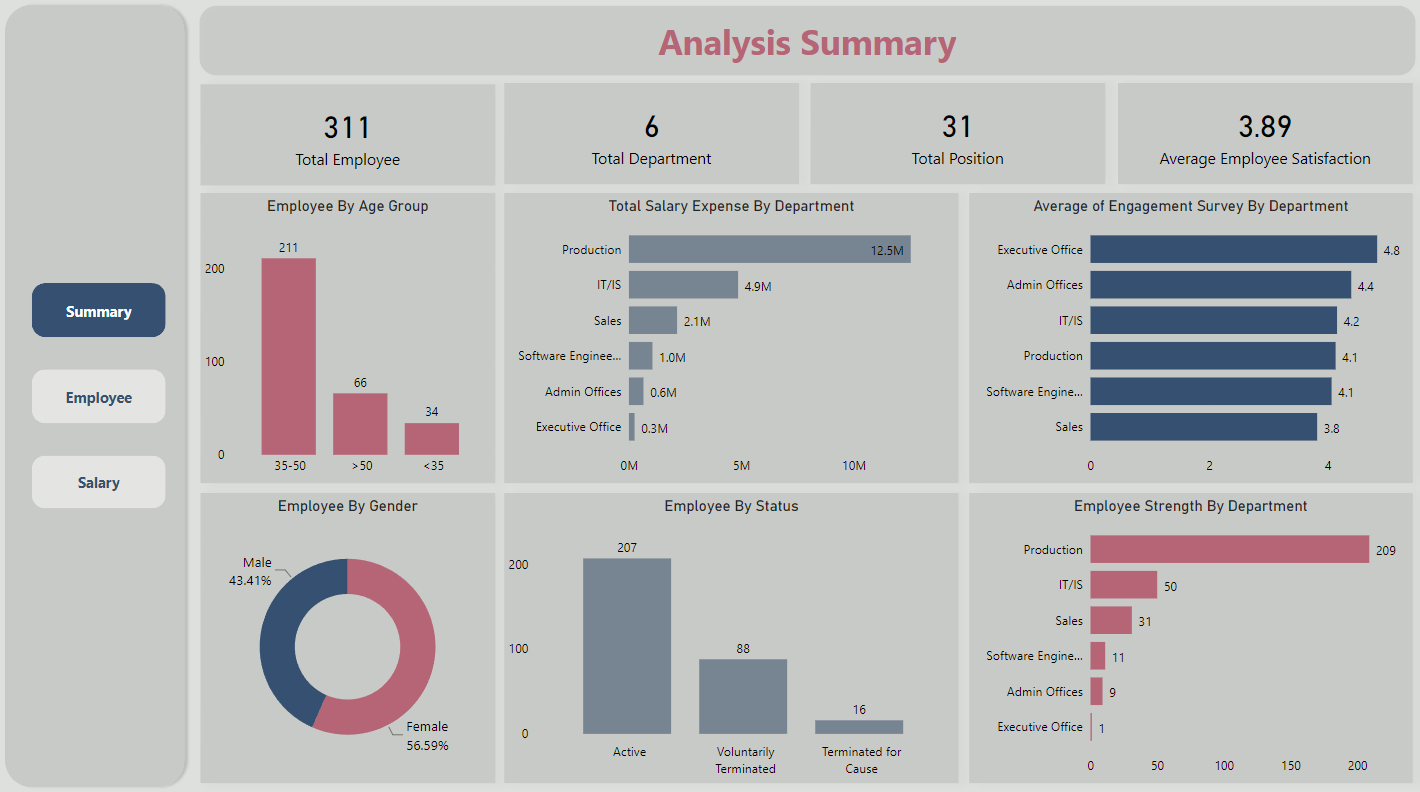

What the dashboard file says about the page in this screenshot:
{"tool":"powerbi","page":{"name":"Summary","canvas":[1700,950],"ordinal":0},"visuals":[{"type":"shape","box":[0,0,230.6,950.7],"z":0},{"type":"clusteredBarChart","title":"Average of Engagement Survey By Department","fields":{"Category":["HRDataset.Department"],"Y":["Avg(HRDataset.EngagementSurvey)"]},"box":[1159.8,232.3,529.3,346.8],"z":2000},{"type":"actionButton","box":[40,546.7,160,63.3],"z":3000},{"type":"actionButton","box":[40,443.3,160,65],"z":4000},{"type":"actionButton","box":[40,340,160,65],"z":5000},{"type":"clusteredBarChart","title":"Total Salary Expense By Department","fields":{"Category":["HRDataset.Department"],"Y":["Sum(HRDataset.Salary)"]},"box":[603.9,232.3,542.6,346.8],"z":6000},{"type":"shape","box":[230.6,0,1470,101.2],"z":7000},{"type":"clusteredBarChart","title":"Employee Strength By Department","fields":{"Y":["CountNonNull(HRDataset.EmpID)"],"Category":["HRDataset.Department"]},"box":[1159.8,590.7,529.3,346.8],"z":8000},{"type":"columnChart","title":"Employee By Status","fields":{"Category":["HRDataset.EmploymentStatus"],"Y":["CountNonNull(HRDataset.EmpID)"]},"box":[603.9,590.7,542.6,346.8],"z":9000},{"type":"donutChart","title":"Employee By Gender","fields":{"Y":["CountNonNull(HRDataset.EmpID)"],"Category":["HRDataset.Sex"]},"box":[242.2,590.7,351.7,346.8],"z":10000},{"type":"columnChart","title":"Employee By Age Group","fields":{"Y":["CountNonNull(HRDataset.EmpID)"],"Category":["HRDataset.Age Group"]},"box":[242.2,232.3,351.7,346.8],"z":11000},{"type":"card","title":"Employee By Age Group","fields":{"Values":["CountNonNull(HRDataset.EmpID)"]},"box":[242.2,102.9,351.7,121.1],"z":12000},{"type":"card","title":"Employee By Age Group","fields":{"Values":["Count(HRDataset.Department)"]},"box":[603.9,101.2,351.7,121.1],"z":14000},{"type":"card","title":"Employee By Age Group","fields":{"Values":["Count(HRDataset.Position)"]},"box":[970.6,101.2,351.7,121.1],"z":15000},{"type":"card","title":"Employee By Age Group","fields":{"Values":["Avg(HRDataset.EmpSatisfaction)"]},"box":[1337.3,101.2,351.7,121.1],"z":16000}]}

Visuals, with their boxes on the page's 1700x950 design canvas (x1, y1, x2, y2). These are canvas units, not pixel positions in the 1420x792 screenshot, which may show the page scaled, cropped or inside an application window:
shape: (left=0, top=0, right=231, bottom=951)
"Average of Engagement Survey By Department" clusteredBarChart: (left=1160, top=232, right=1689, bottom=579)
actionButton: (left=40, top=547, right=200, bottom=610)
actionButton: (left=40, top=443, right=200, bottom=508)
actionButton: (left=40, top=340, right=200, bottom=405)
"Total Salary Expense By Department" clusteredBarChart: (left=604, top=232, right=1146, bottom=579)
shape: (left=231, top=0, right=1701, bottom=101)
"Employee Strength By Department" clusteredBarChart: (left=1160, top=591, right=1689, bottom=938)
"Employee By Status" columnChart: (left=604, top=591, right=1146, bottom=938)
"Employee By Gender" donutChart: (left=242, top=591, right=594, bottom=938)
"Employee By Age Group" columnChart: (left=242, top=232, right=594, bottom=579)
"Employee By Age Group" card: (left=242, top=103, right=594, bottom=224)
"Employee By Age Group" card: (left=604, top=101, right=956, bottom=222)
"Employee By Age Group" card: (left=971, top=101, right=1322, bottom=222)
"Employee By Age Group" card: (left=1337, top=101, right=1689, bottom=222)
